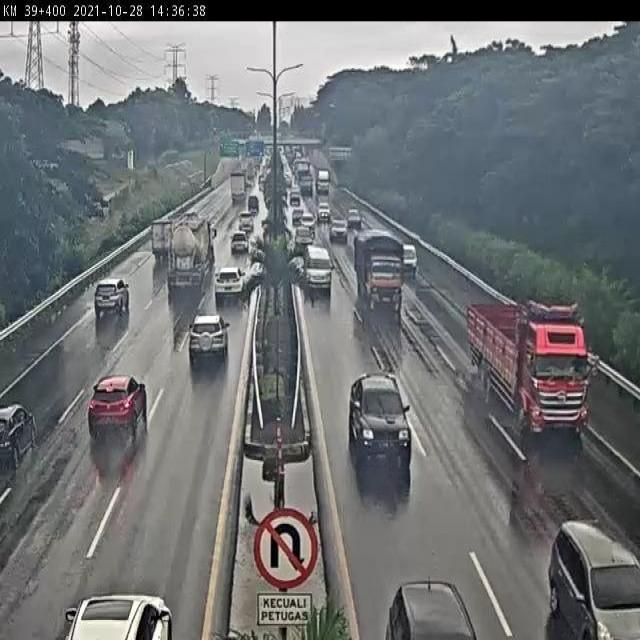truck-m-: (465, 299, 590, 433), (353, 226, 403, 306)
truck-xl-: (164, 214, 218, 298)
